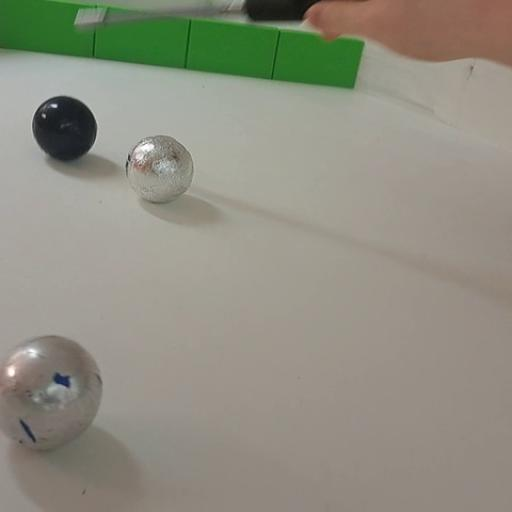alive: (0, 332, 105, 450), (124, 134, 195, 203)
dead: (31, 94, 100, 162)
